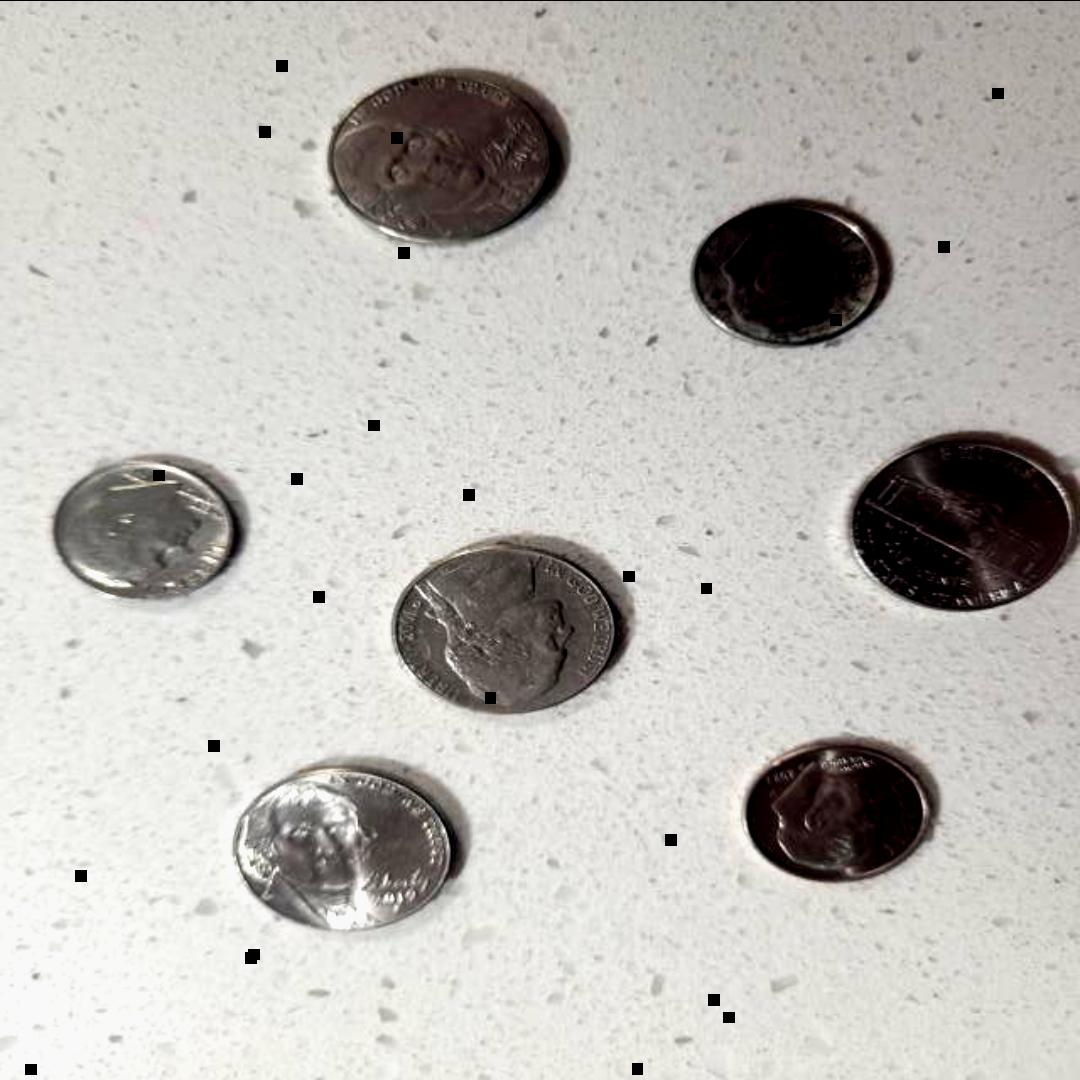Dime: (682, 195, 890, 353), (42, 456, 237, 606), (735, 736, 935, 880)
Nickel: (380, 539, 626, 721), (317, 68, 561, 250), (223, 763, 466, 938), (843, 437, 1075, 610)
